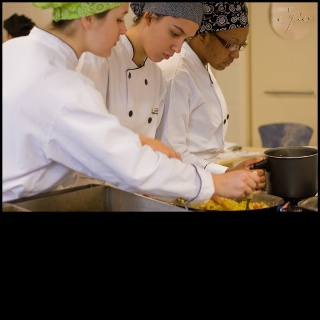without_mask: (143, 17, 199, 62), (88, 2, 128, 57)
